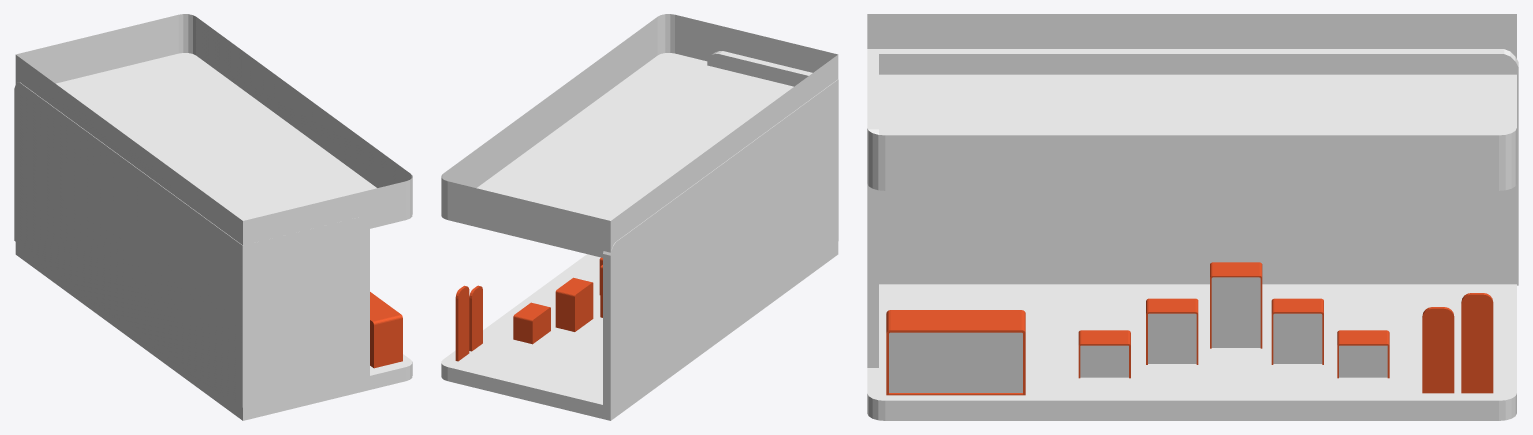
File: stall ver2 empty.glb
3 renders of one model, left to right at view 1: azimuth 30°, elevation 25°; view 2: azimuth 150°, elevation 25°; view 3: azimuth 270°, elevation 25°, orthographic. The views are drawn at different scales.
Parts seen in each view (by area): view 1: Cube.002, Cube.010, Cube.011, Cube.001; view 2: Cube.010, Cube.002, Cube.011, Cube.007, Cube.008, Cube.003, Cube.004; view 3: Cube.010, Cube.002, Cube.011, Cube.001, Cube.009, Cube.006, Cube.007, Cube.003, Cube.004, Cube.005, Cube.008.
Boxes of the visible parts, x1,y1,x2,y2 form: Cube.002: (14, 82, 369, 407); Cube.010: (15, 14, 412, 245); Cube.011: (15, 242, 412, 420); Cube.001: (370, 292, 402, 368); Cube.010: (441, 14, 838, 257); Cube.002: (603, 51, 838, 408); Cube.011: (441, 242, 838, 420); Cube.007: (555, 277, 593, 331); Cube.008: (513, 302, 550, 344); Cube.003: (455, 285, 469, 361); Cube.004: (469, 285, 482, 351); Cube.010: (867, 14, 1516, 190); Cube.002: (867, 49, 1518, 367); Cube.011: (867, 284, 1516, 420); Cube.001: (886, 310, 1025, 395); Cube.009: (1210, 262, 1262, 348); Cube.006: (1146, 298, 1198, 364); Cube.007: (1271, 298, 1323, 364); Cube.003: (1461, 293, 1493, 393); Cube.004: (1422, 307, 1454, 393); Cube.005: (1078, 330, 1130, 378); Cube.008: (1337, 330, 1389, 378).
Size of the model in its own units: 8.55 by 9.36 by 19.35.
